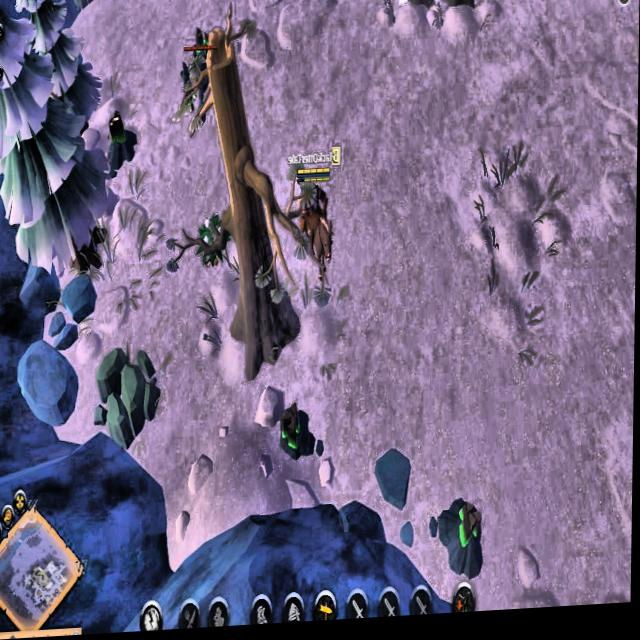sandstone: (95, 342, 163, 451)
tinore: (444, 501, 486, 584), (278, 400, 312, 459), (106, 112, 136, 169)
